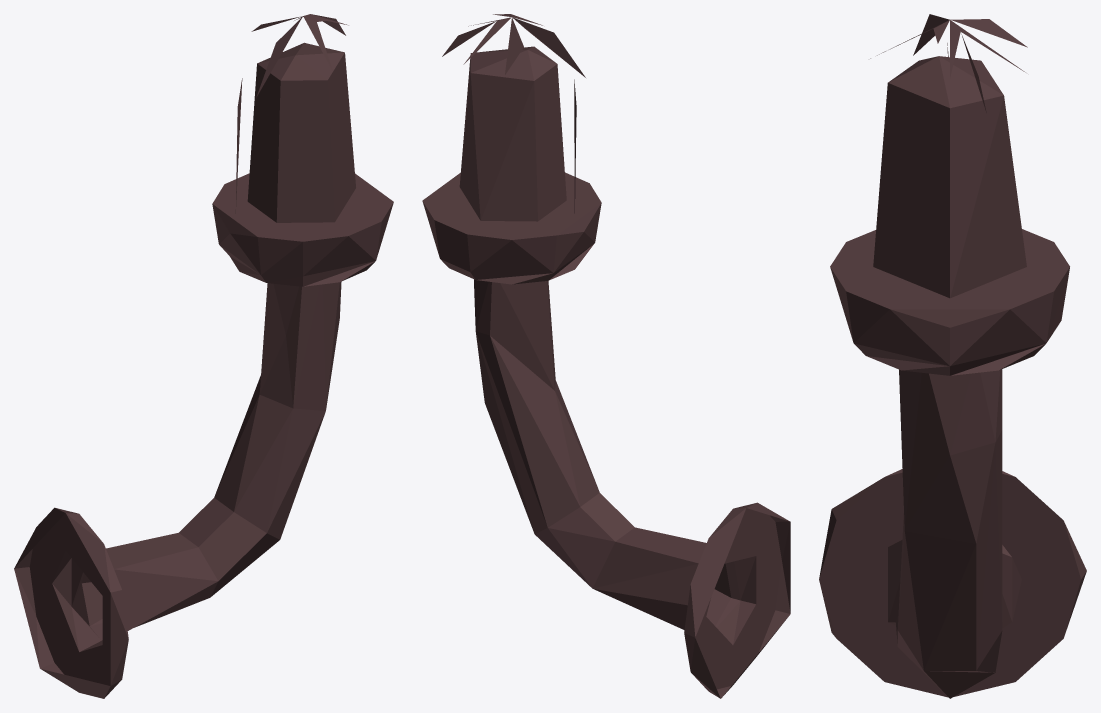
The model's file is ew-warning-light.lod1.glb.
3 renders of one model, left to right at view 1: azimuth 30°, elevation 25°; view 2: azimuth 150°, elevation 25°; view 3: azimuth 270°, elevation 25°, orthographic. The views are drawn at different scales.
Parts seen in each view (by area): view 1: pipers_old_0; view 2: pipers_old_0; view 3: pipers_old_0.
Part boxes in pixels (bbox=[...]): pipers_old_0: bbox=[14, 14, 393, 698]; pipers_old_0: bbox=[422, 14, 790, 698]; pipers_old_0: bbox=[819, 14, 1086, 698].
Size of the model in its own units: 0.2075 by 0.3975 by 0.1173.
